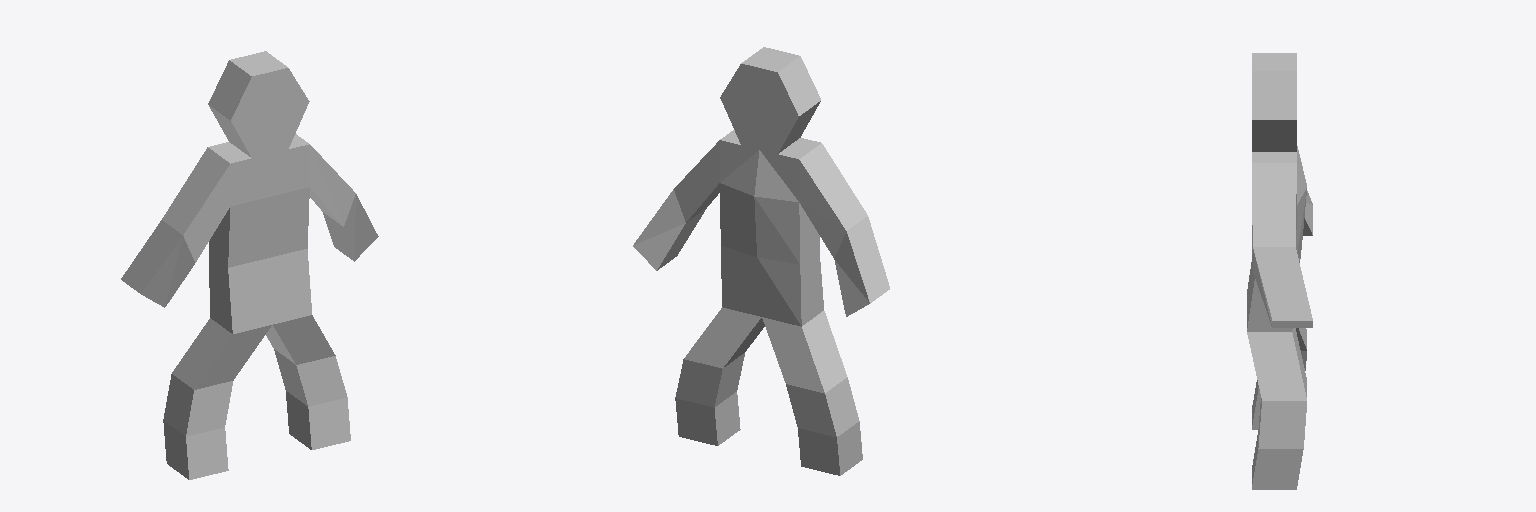
The model's file is enemy.obj.
3 renders of one model, left to right at view 1: azimuth 30°, elevation 25°; view 2: azimuth 150°, elevation 25°; view 3: azimuth 270°, elevation 25°, orthographic.
Parts seen in each view (by area): view 1: Cube; view 2: Cube; view 3: Cube.
Part boxes in pixels (left/top/right/bottom): Cube: left=121, top=51, right=378, bottom=479; Cube: left=633, top=47, right=889, bottom=475; Cube: left=1247, top=53, right=1312, bottom=489.
Size of the model in its own units: 12.1 by 18.91 by 2.92.